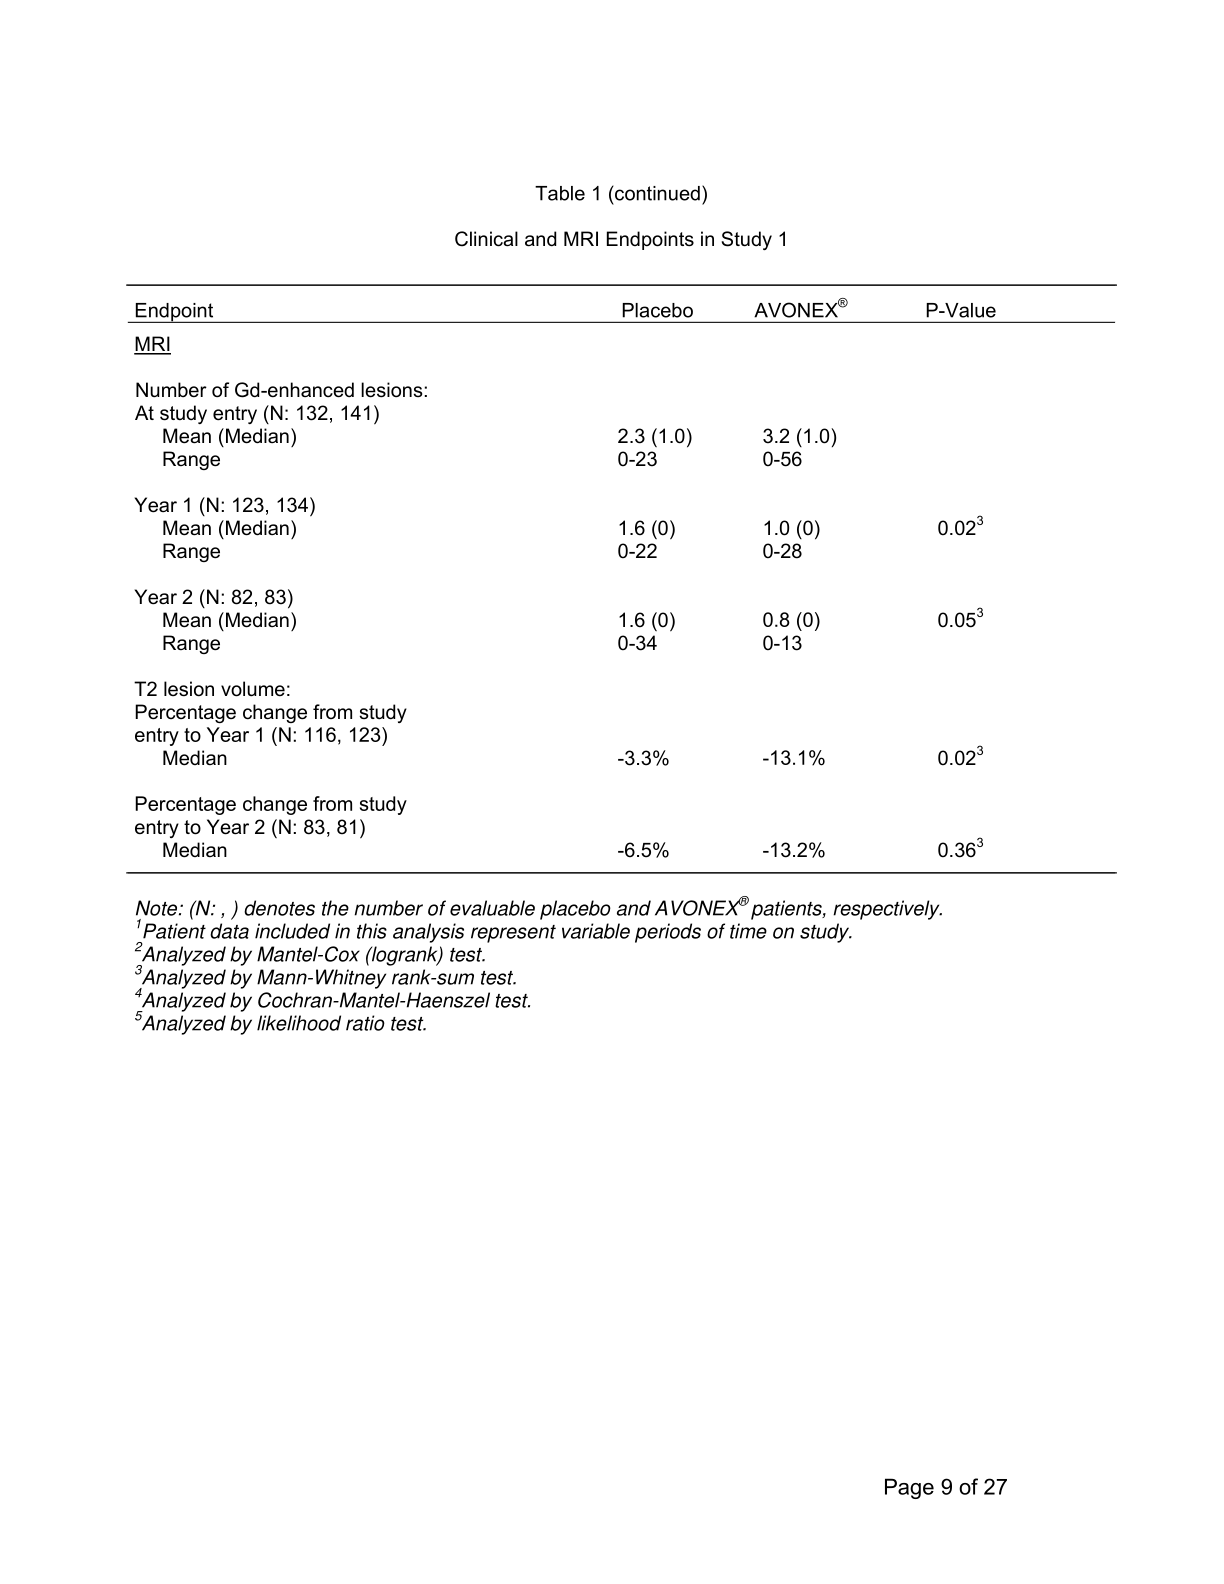partial_lined: (122, 282, 1120, 877)
